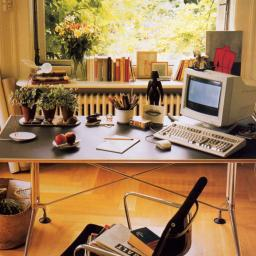Ventana: (36, 3, 222, 60)
